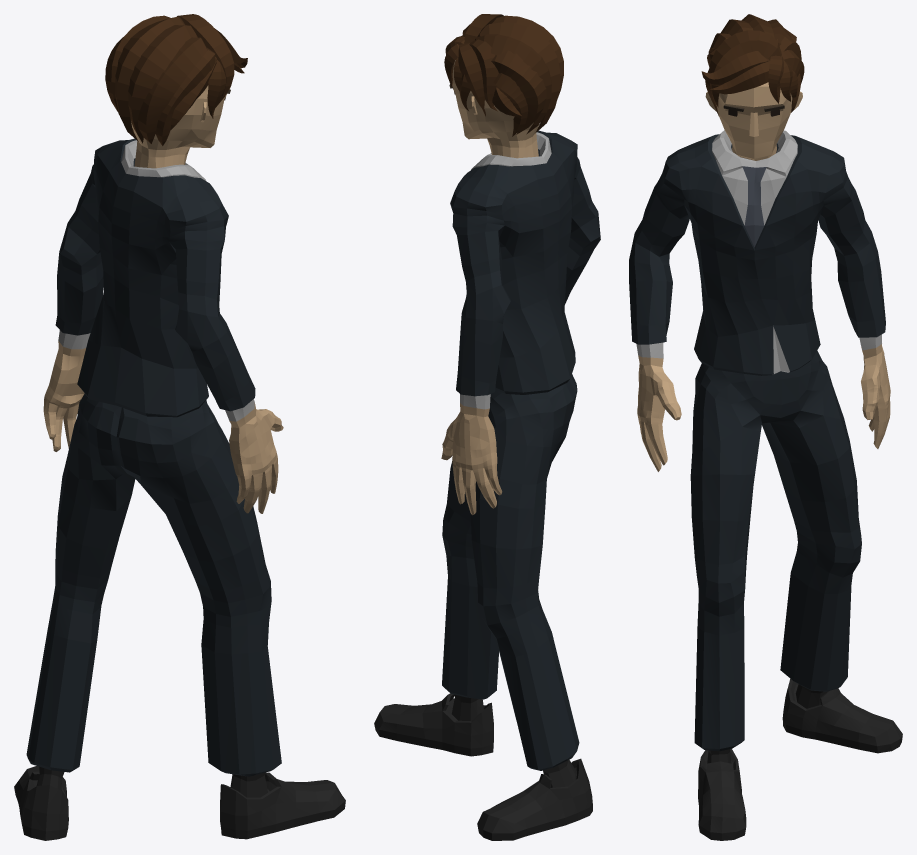
File: persoon_a.glb
3 renders of one model, left to right at view 1: azimuth 30°, elevation 25°; view 2: azimuth 150°, elevation 25°; view 3: azimuth 270°, elevation 25°, orthographic. The views are drawn at different scales.
Size of the model in its own units: 0.6351 by 1.8 by 0.5955.
